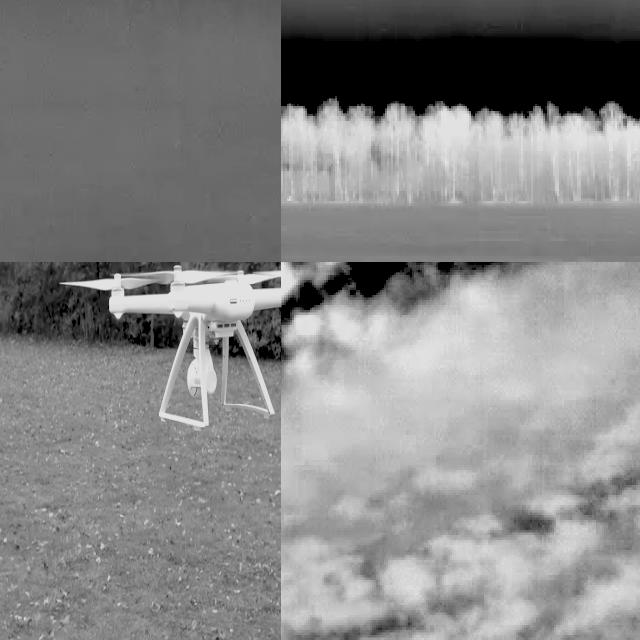drone: (63, 262, 281, 427)
